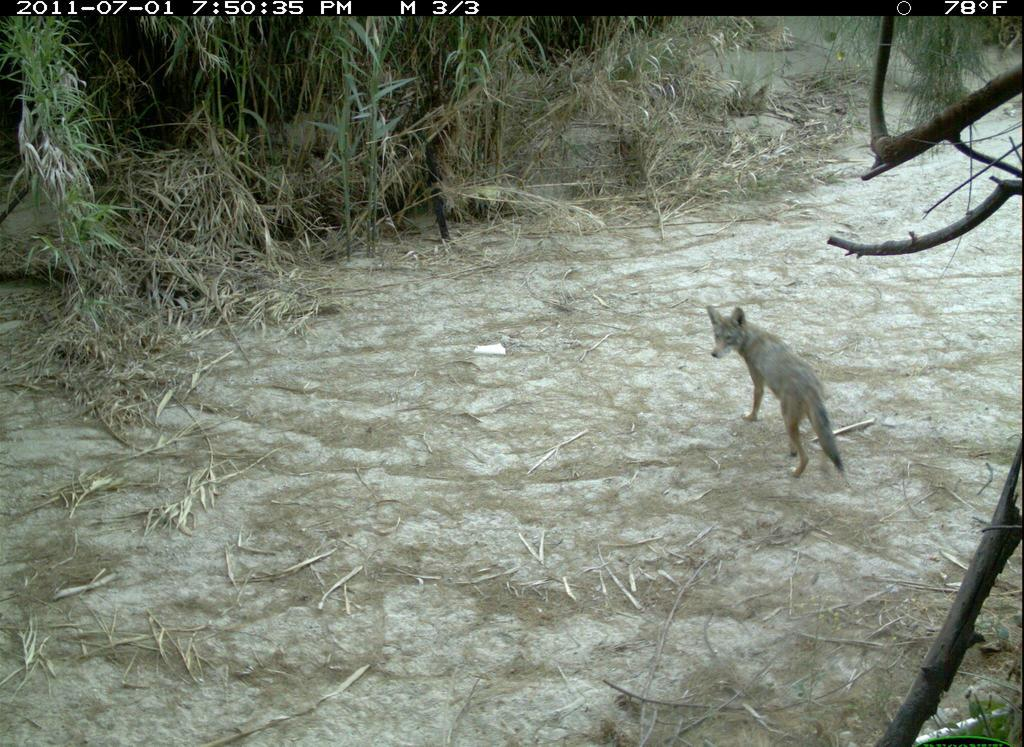coyote: (701, 299, 859, 487)
